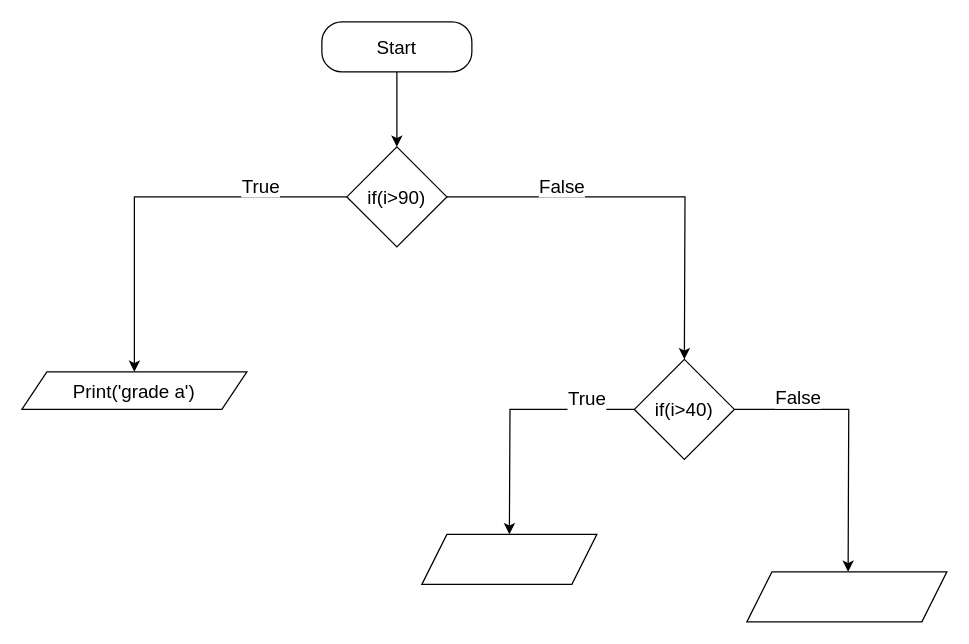
Some shapes in this 969 by 644 pixel diagram are drawn without their labels. The centre of each missing label's shape, as x and y in pixels:
Print('grade b'): the point at 509,558
print('your fail'): the point at 846,596
